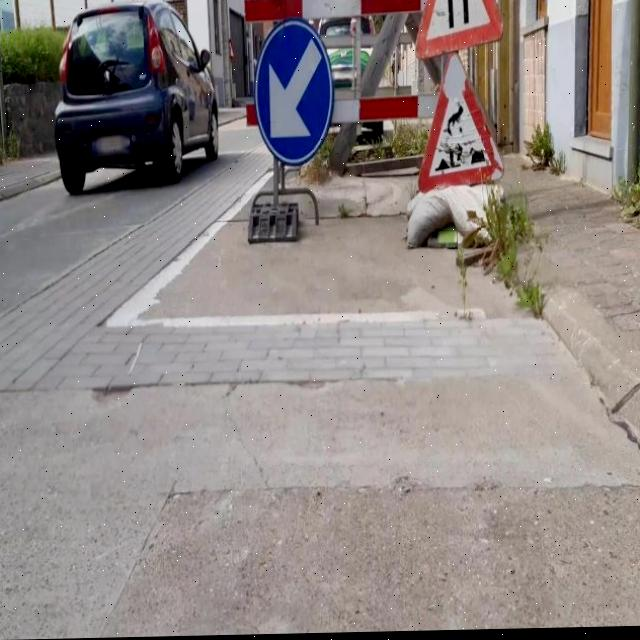Automobile: (55, 3, 218, 194)
Obstacle: (408, 55, 502, 248), (254, 20, 333, 166), (407, 187, 504, 249), (416, 0, 501, 59), (313, 177, 414, 219), (243, 0, 420, 23), (361, 16, 407, 98), (332, 91, 418, 126), (249, 195, 298, 244), (330, 126, 358, 174)
Road: (0, 131, 267, 336)
Sidewalk: (0, 179, 640, 640)
